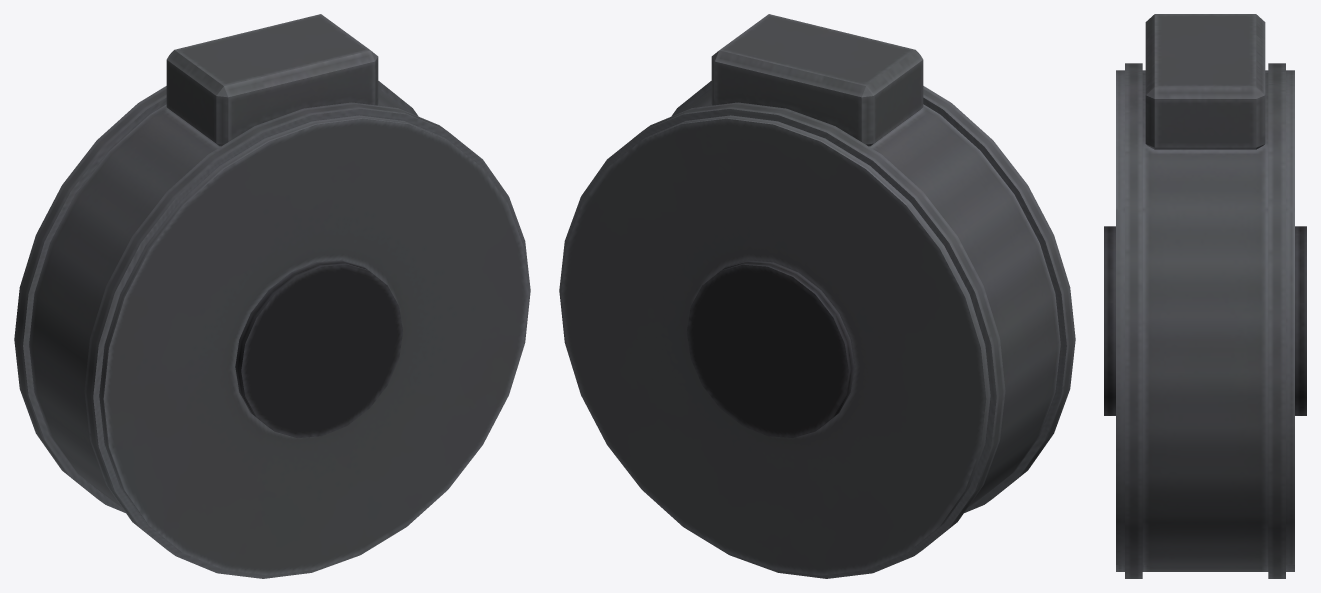
The model's file is AT_RPKDrum.fbx.
3 renders of one model, left to right at view 1: azimuth 30°, elevation 25°; view 2: azimuth 150°, elevation 25°; view 3: azimuth 270°, elevation 25°, orthographic. The views are drawn at different scales.
Parts seen in each view (by area): view 1: AT_RPKDrum; view 2: AT_RPKDrum; view 3: AT_RPKDrum.
Boxes of the visible parts, box(x1,y1,x2,y2) form: AT_RPKDrum: box(14, 14, 530, 578); AT_RPKDrum: box(559, 14, 1075, 578); AT_RPKDrum: box(1104, 14, 1306, 578).
Bounding box in the file's own units: 0.0864 × 0.0932 × 0.034.
1 material, 1 textured.
